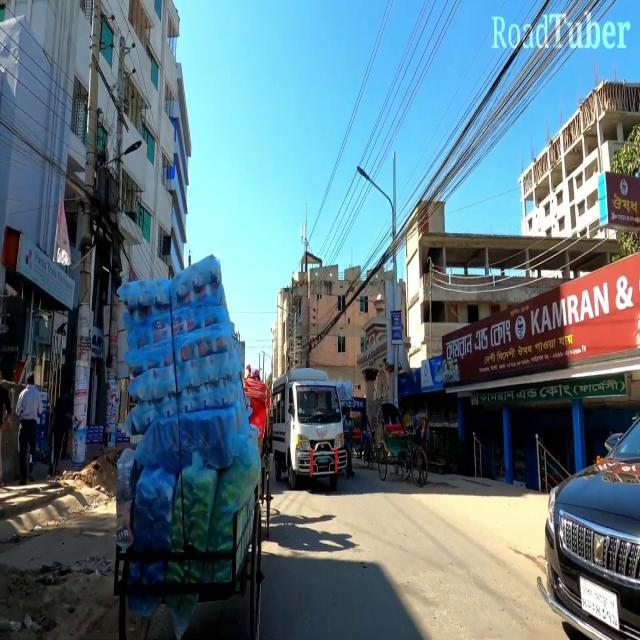black: (536, 391, 640, 640)
